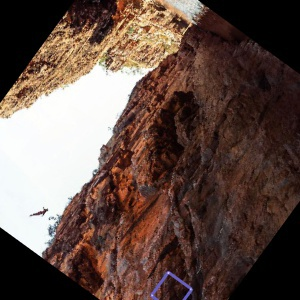square: (148, 269, 196, 300)
